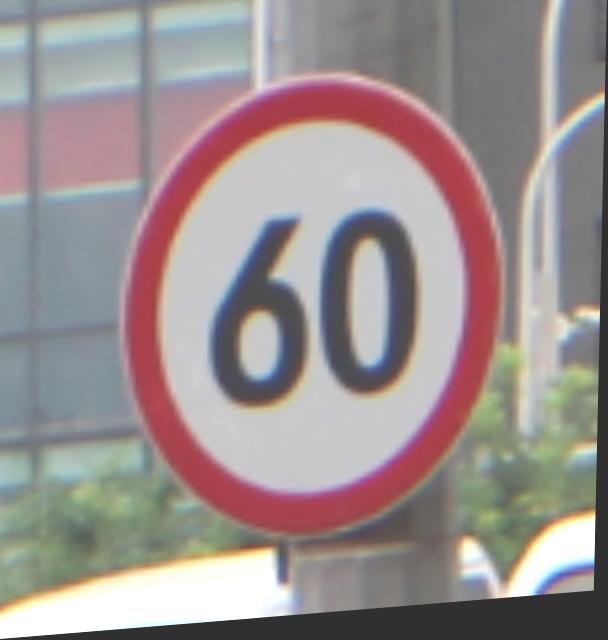limit60: (113, 56, 516, 563)
